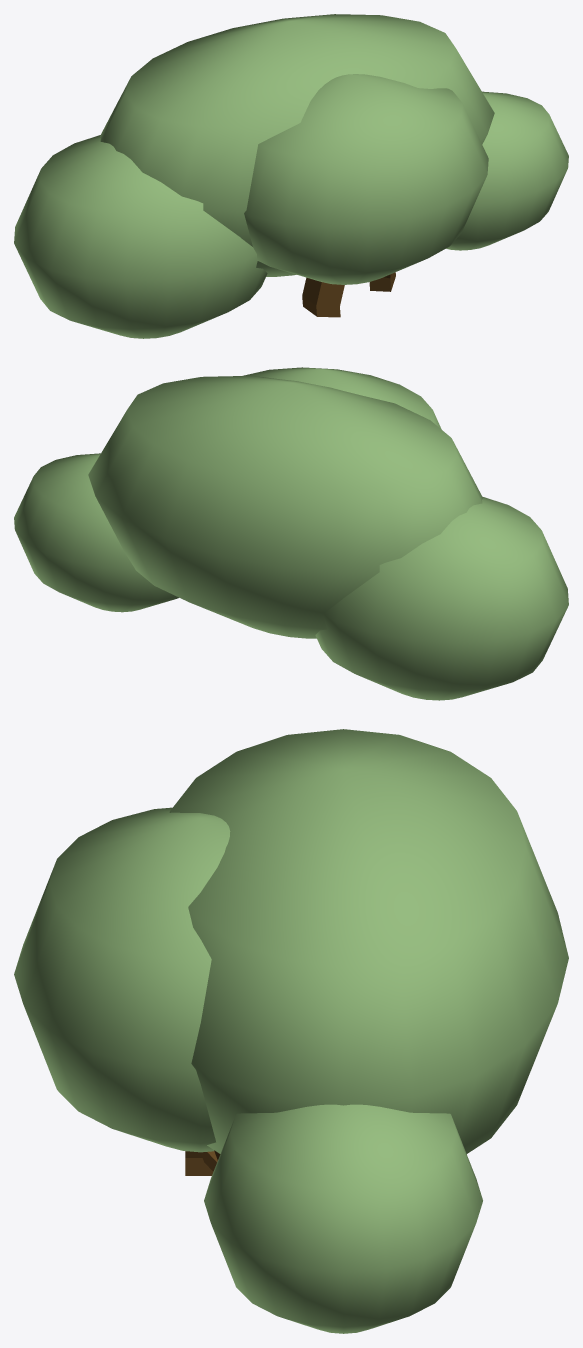
The model's file is Bush 1.fbx.
The picture shows the model from 3 angles, top to bottom: view 1: azimuth 30°, elevation 25°; view 2: azimuth 150°, elevation 25°; view 3: azimuth 270°, elevation 25°; orthographic projection. The views are drawn at different scales.
Parts seen in each view (by area): view 1: polySurface6; view 2: polySurface6; view 3: polySurface6.
Boxes of the visible parts, x1,y1,x2,y2 form: polySurface6: (14, 14, 568, 338); polySurface6: (14, 367, 568, 700); polySurface6: (14, 729, 568, 1333).
Bounding box in the file's own units: 11.55 × 5.63 × 6.63.
